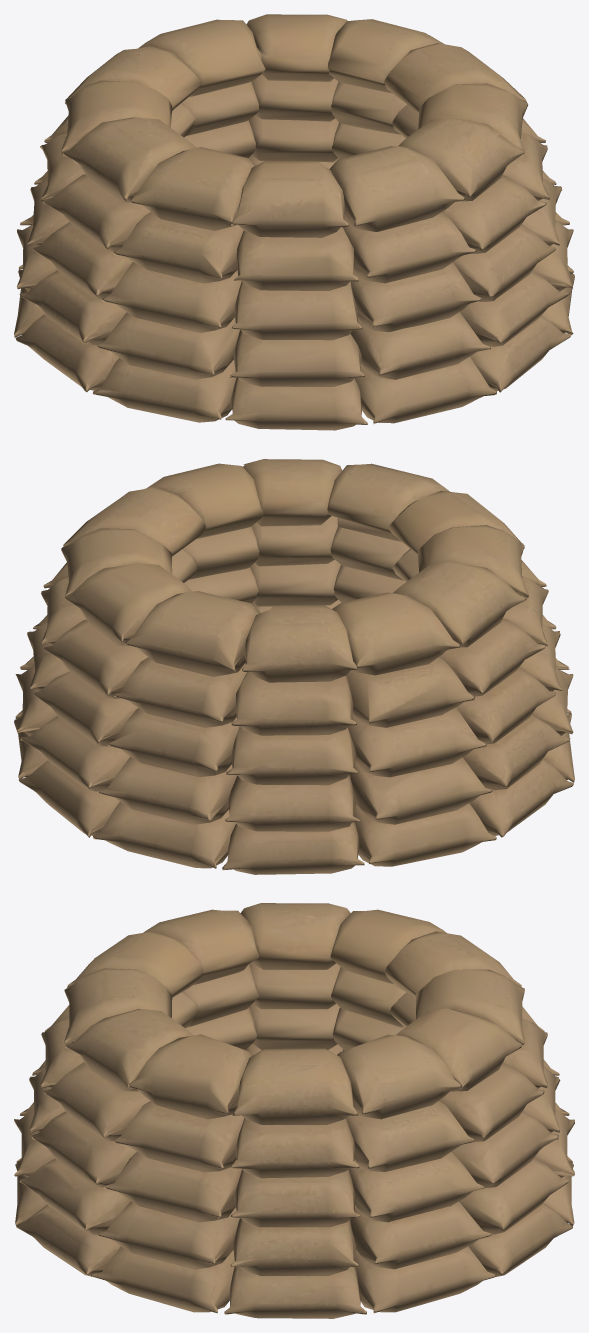
The model's file is l_bags2.glb.
The picture shows the model from 3 angles, top to bottom: view 1: azimuth 30°, elevation 25°; view 2: azimuth 150°, elevation 25°; view 3: azimuth 270°, elevation 25°; orthographic projection.
Bounding box in the file's own units: 0.9546 × 0.4185 × 0.9502.
Materials: 1 (1 with a texture image).
